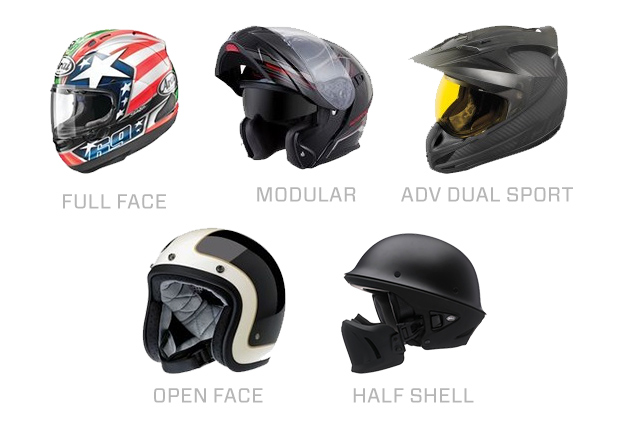with_helmet: (402, 18, 588, 178), (209, 22, 377, 174), (137, 222, 292, 380), (341, 228, 492, 380), (43, 24, 184, 176)
